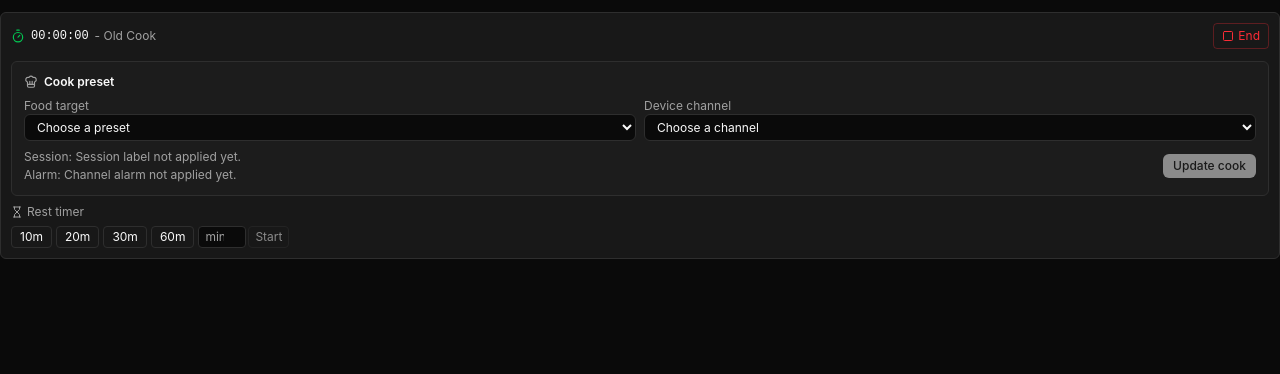
SessionControls › inactive state › cook presets › updates an active session label and applies the preset alarm
Select "Pork - Pulled Pork (Tender) - 203°F" in the dropdown named "Cook preset": x=330, y=128 top-left (24, 114), bottom-right (636, 141)
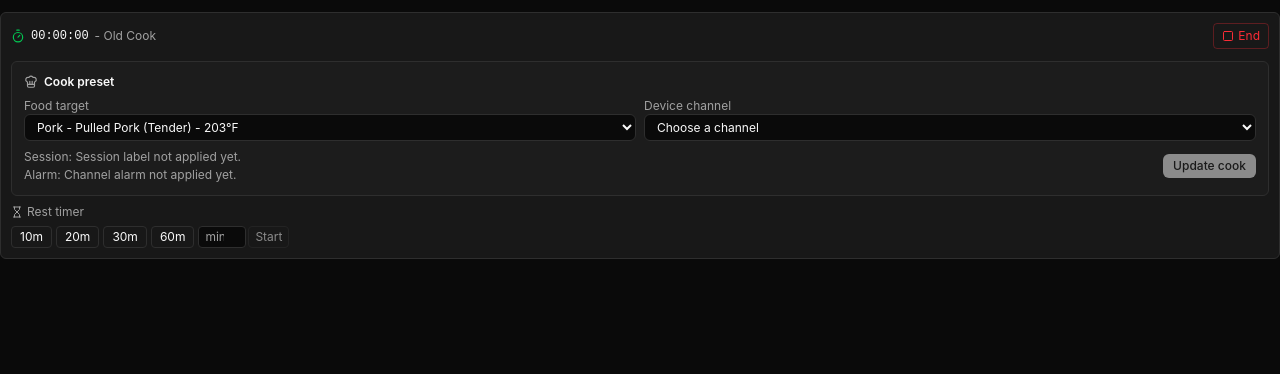
Select "Probe scriptalert(1)/script (°F)" in the dropdown named "Preset channel": x=950, y=128 top-left (644, 114), bottom-right (1256, 141)
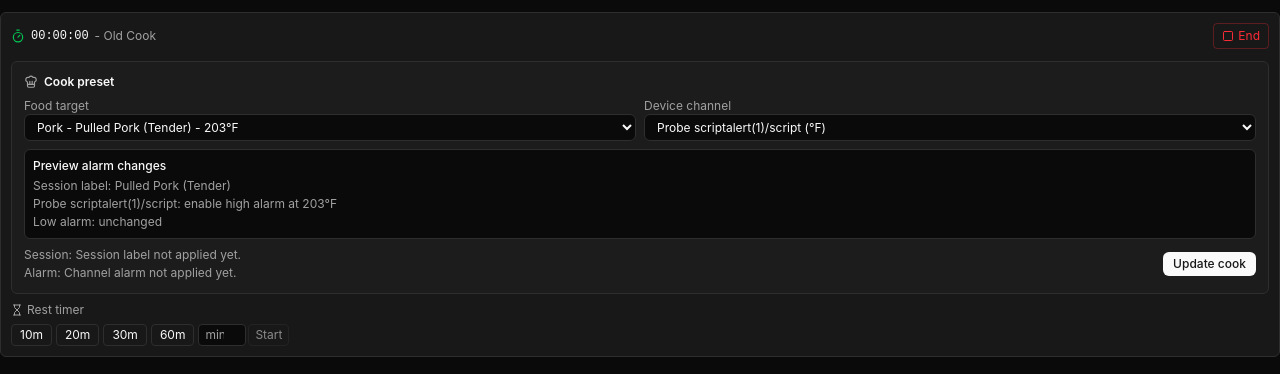
Click the button "Update cook": x=1210, y=264 top-left (1163, 252), bottom-right (1256, 276)
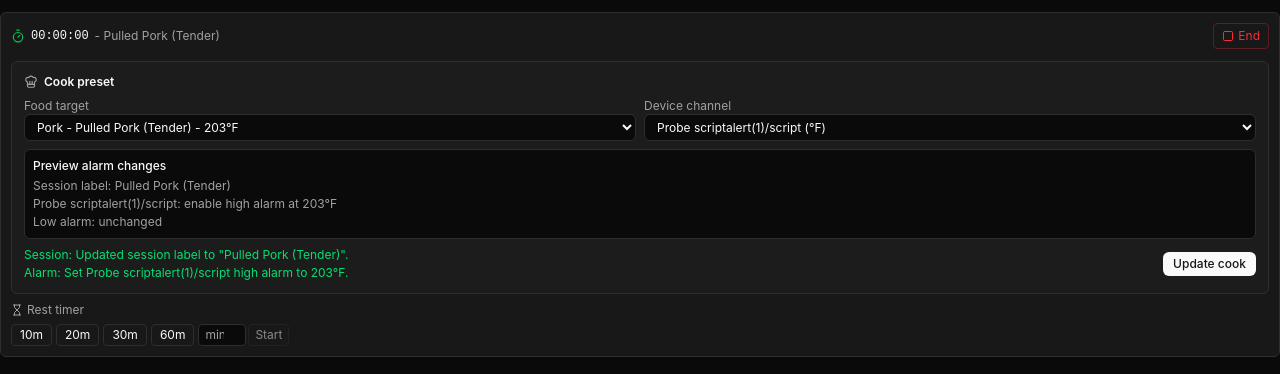
Expected: the text "Session: Updated session label to \"Pulled Pork (Tender)\"." is shown, top-left (24, 247), bottom-right (348, 263)
